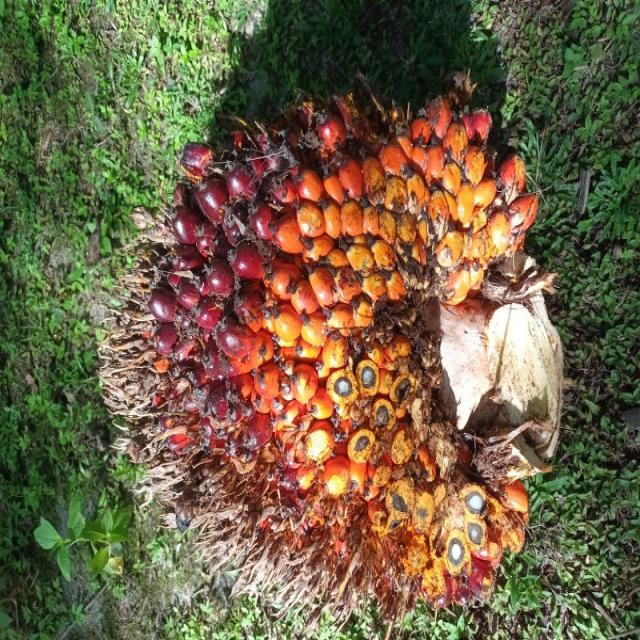fraksi 1: (20, 121, 433, 640)
